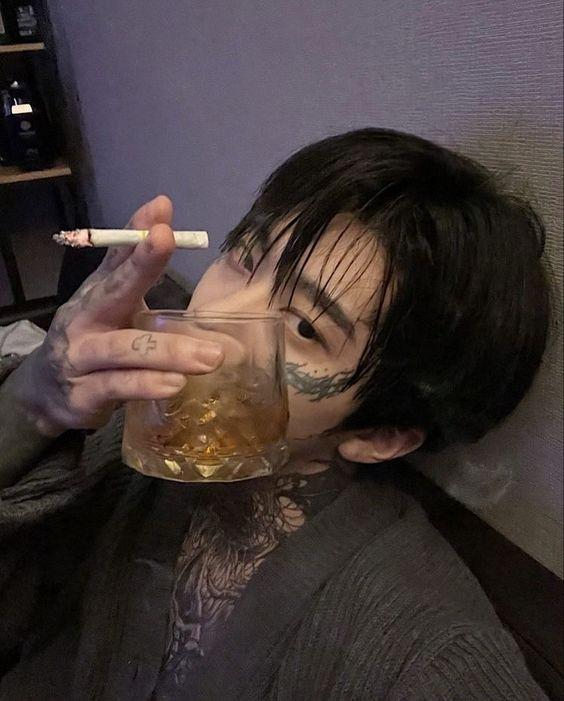cigarette: (54, 229, 210, 249)
